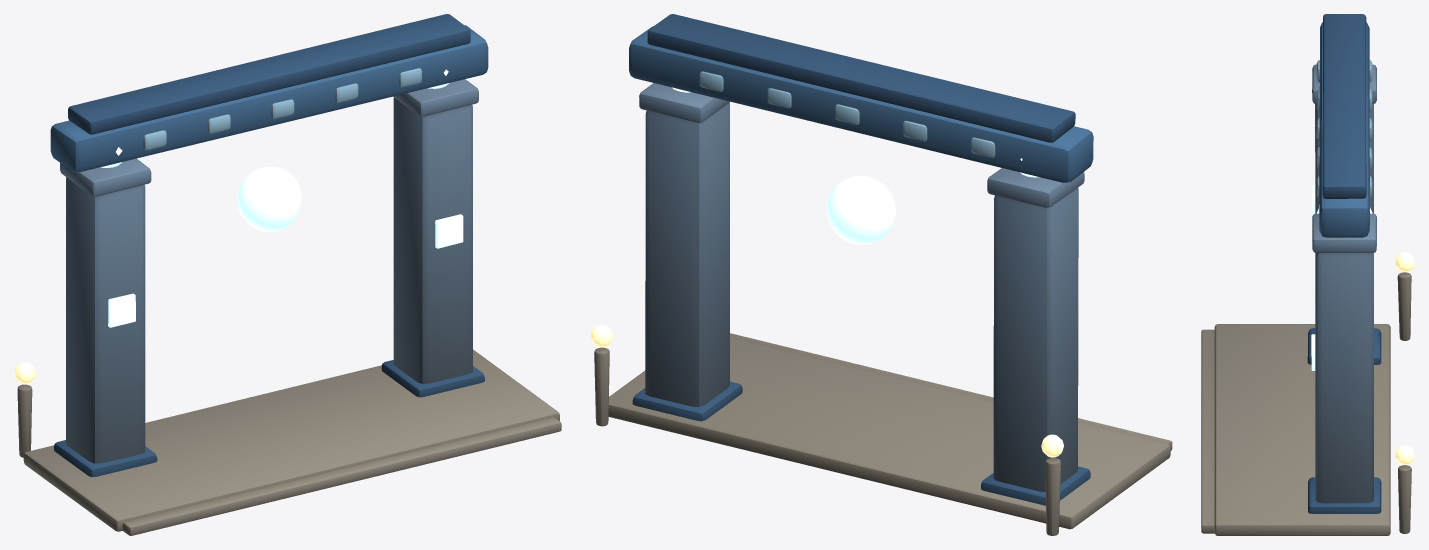
3 renders of one model, left to right at view 1: azimuth 30°, elevation 25°; view 2: azimuth 150°, elevation 25°; view 3: azimuth 270°, elevation 25°, orthographic. The views are drawn at different scales.
Visible parts, largest first — view 1: gate_75d1da4d; view 2: gate_75d1da4d; view 3: gate_75d1da4d.
Part boxes in pixels (x1,y1,x2,y2): gate_75d1da4d: (14,14,561,535); gate_75d1da4d: (590,14,1172,535); gate_75d1da4d: (1201,14,1414,535).
Bounding box in the file's own units: 5.71 × 4.44 × 2.55.
